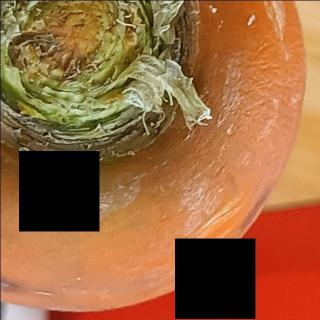carrot: (0, 0, 310, 318)
